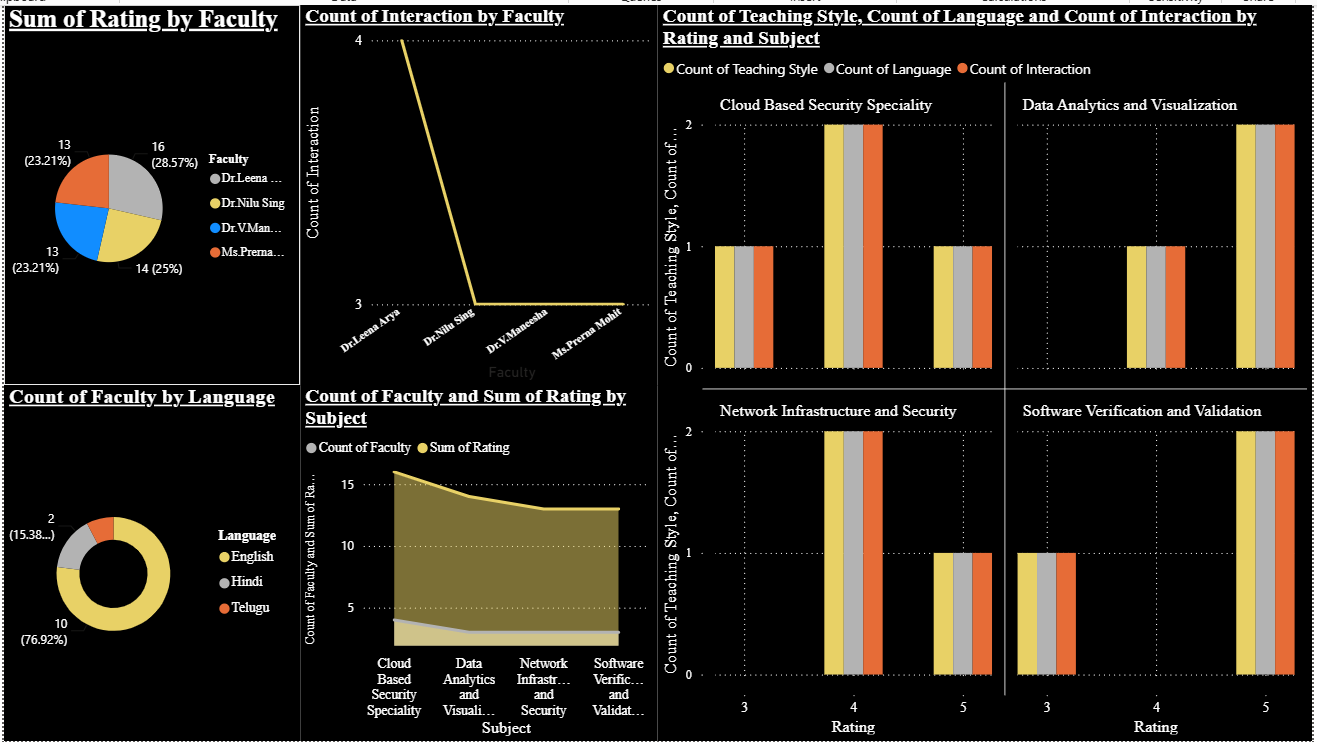

This screenshot's page, from the dashboard's own definition file:
{"tool":"powerbi","page":{"name":"Page 1","canvas":[1280,720],"ordinal":0},"visuals":[{"type":"pieChart","fields":{"Category":["Table 1 (Sheet1).Faculty"],"Y":["Sum(Table 1 (Sheet1).Rating)"]},"box":[0,0,289.5,371.9],"z":0},{"type":"donutChart","fields":{"Category":["Table 1 (Sheet1).Language"],"Y":["CountNonNull(Table 1 (Sheet1).Faculty)"]},"box":[0,371.9,289.5,348.5],"z":1000},{"type":"lineChart","fields":{"Category":["Table 1 (Sheet1).Faculty"],"Y":["CountNonNull(Table 1 (Sheet1).Interaction)"]},"box":[289.5,0,349.9,371.9],"z":2000},{"type":"clusteredColumnChart","fields":{"Y":["CountNonNull(Table 1 (Sheet1).Teaching Style)","CountNonNull(Table 1 (Sheet1).Language)","CountNonNull(Table 1 (Sheet1).Interaction)"],"Rows":["Table 1 (Sheet1).Subject"],"Category":["Table 1 (Sheet1).Rating"]},"box":[639.5,0,640.8,720.4],"z":3000},{"type":"areaChart","fields":{"Category":["Table 1 (Sheet1).Subject"],"Y":["CountNonNull(Table 1 (Sheet1).Faculty)","Sum(Table 1 (Sheet1).Rating)"]},"box":[289.5,371.9,349.9,348.5],"z":4000}]}

Visuals, with their boxes in screenshot pixels (x1, y1, x2, y2), scaled from the page's 1280x720 canvas onto the 1317x742 screenshot:
pieChart - Table 1 (Sheet1).Faculty x Sum(Table 1 (Sheet1).Rating): box=[0, 0, 298, 383]
donutChart - Table 1 (Sheet1).Language x CountNonNull(Table 1 (Sheet1).Faculty): box=[0, 383, 298, 741]
lineChart - Table 1 (Sheet1).Faculty x CountNonNull(Table 1 (Sheet1).Interaction): box=[298, 0, 658, 383]
clusteredColumnChart - CountNonNull(Table 1 (Sheet1).Teaching Style) x CountNonNull(Table 1 (Sheet1).Language): box=[658, 0, 1316, 741]
areaChart - Table 1 (Sheet1).Subject x CountNonNull(Table 1 (Sheet1).Faculty): box=[298, 383, 658, 741]
